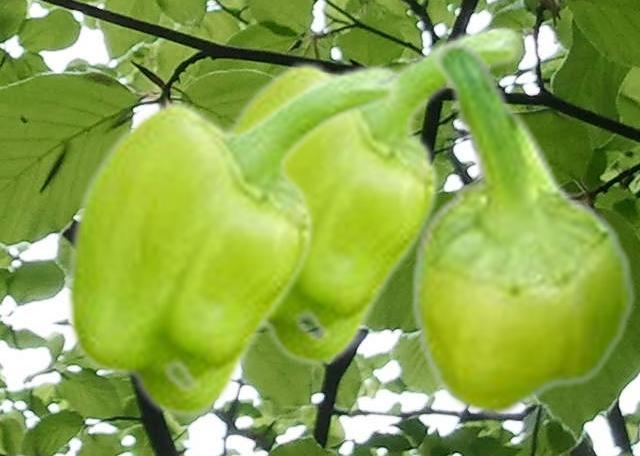bell_pepper: (63, 61, 402, 419), (226, 23, 524, 367), (409, 41, 636, 417)
